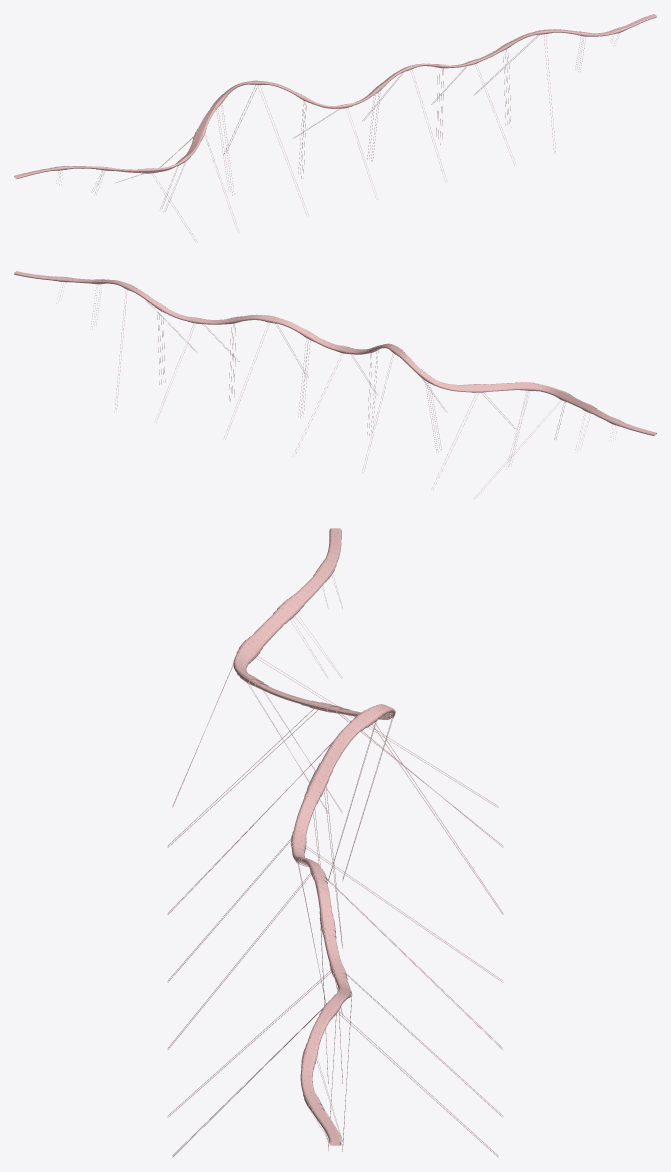
File: structure_sf.glb
3 views of the same model, one above another, from view 1: azimuth 30°, elevation 25°; view 2: azimuth 150°, elevation 25°; view 3: azimuth 270°, elevation 25° (orthographic). The views are drawn at different scales.
Visible parts, largest first — view 1: n1; view 2: n1; view 3: n1.
Boxes of the visible parts, bbox=[...] form: n1: bbox=[14, 14, 656, 241]; n1: bbox=[14, 271, 656, 498]; n1: bbox=[167, 528, 503, 1157].
Size of the model in its own units: 3700 by 551 by 841.
